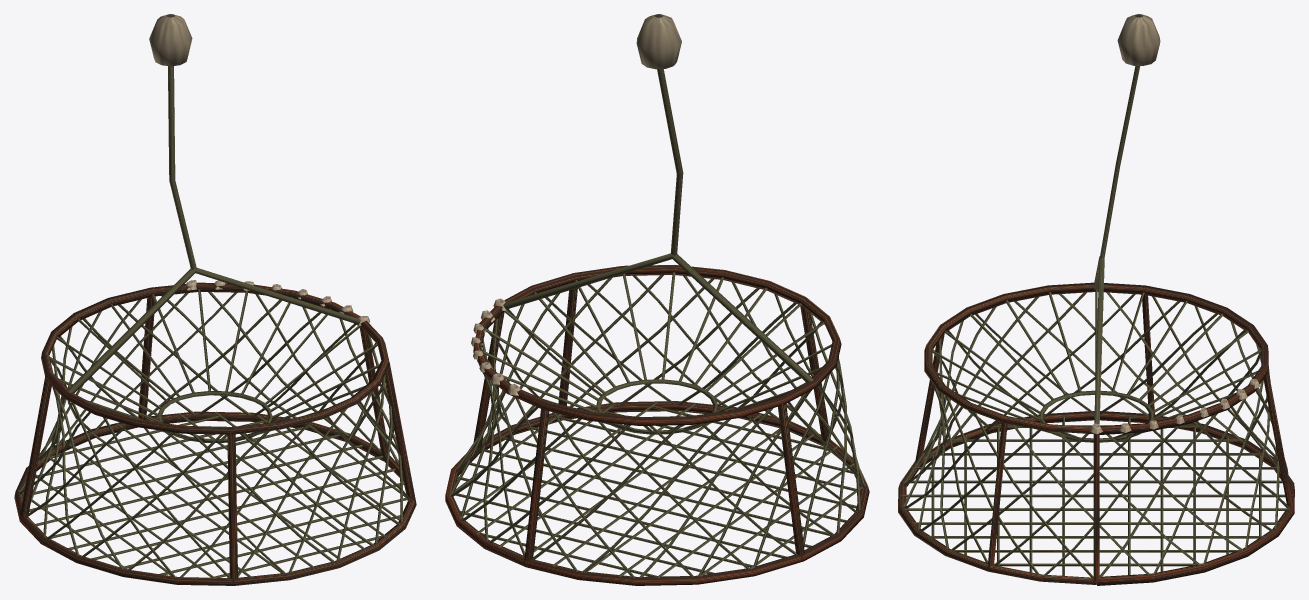
Rendered from crab-pot.glb.
3 views of the same model, side by side, from view 1: azimuth 30°, elevation 25°; view 2: azimuth 150°, elevation 25°; view 3: azimuth 270°, elevation 25° (orthographic). The views are drawn at different scales.
Visible parts, largest first — view 1: LOD0; view 2: LOD0; view 3: LOD0.
Boxes of the visible parts, x1,y1,x2,y2 form: LOD0: (14,14,416,585); LOD0: (445,14,869,585); LOD0: (898,14,1294,585).
Size of what is drawn, in the model's own units: 0.7557 by 0.9883 by 0.7473.
Materials: 1 (1 with a texture image).
